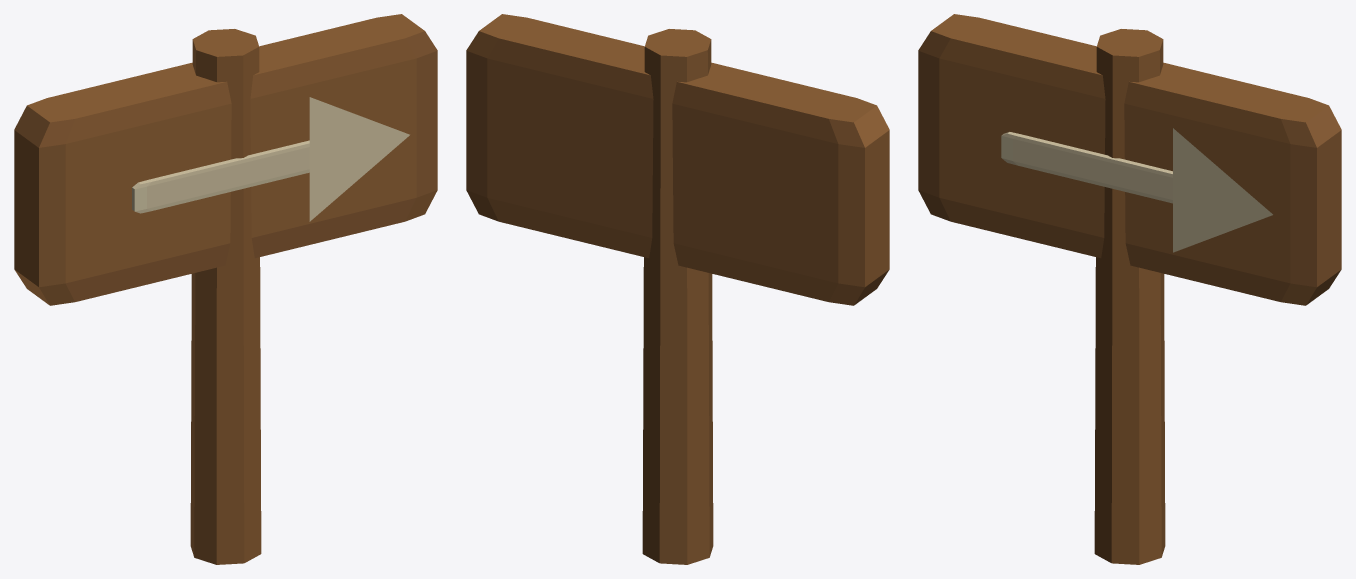
File: Sign.glb
3 views of the same model, side by side, from view 1: azimuth 30°, elevation 25°; view 2: azimuth 150°, elevation 25°; view 3: azimuth 330°, elevation 25° (orthographic).
Parts seen in each view (by area): view 1: Sign; view 2: Sign; view 3: Sign.
Part boxes in pixels (bbox=[...]): Sign: bbox=[14, 14, 437, 564]; Sign: bbox=[466, 14, 889, 564]; Sign: bbox=[918, 14, 1341, 564].
Size of the model in its own units: 1.07 by 1.3 by 0.18.
